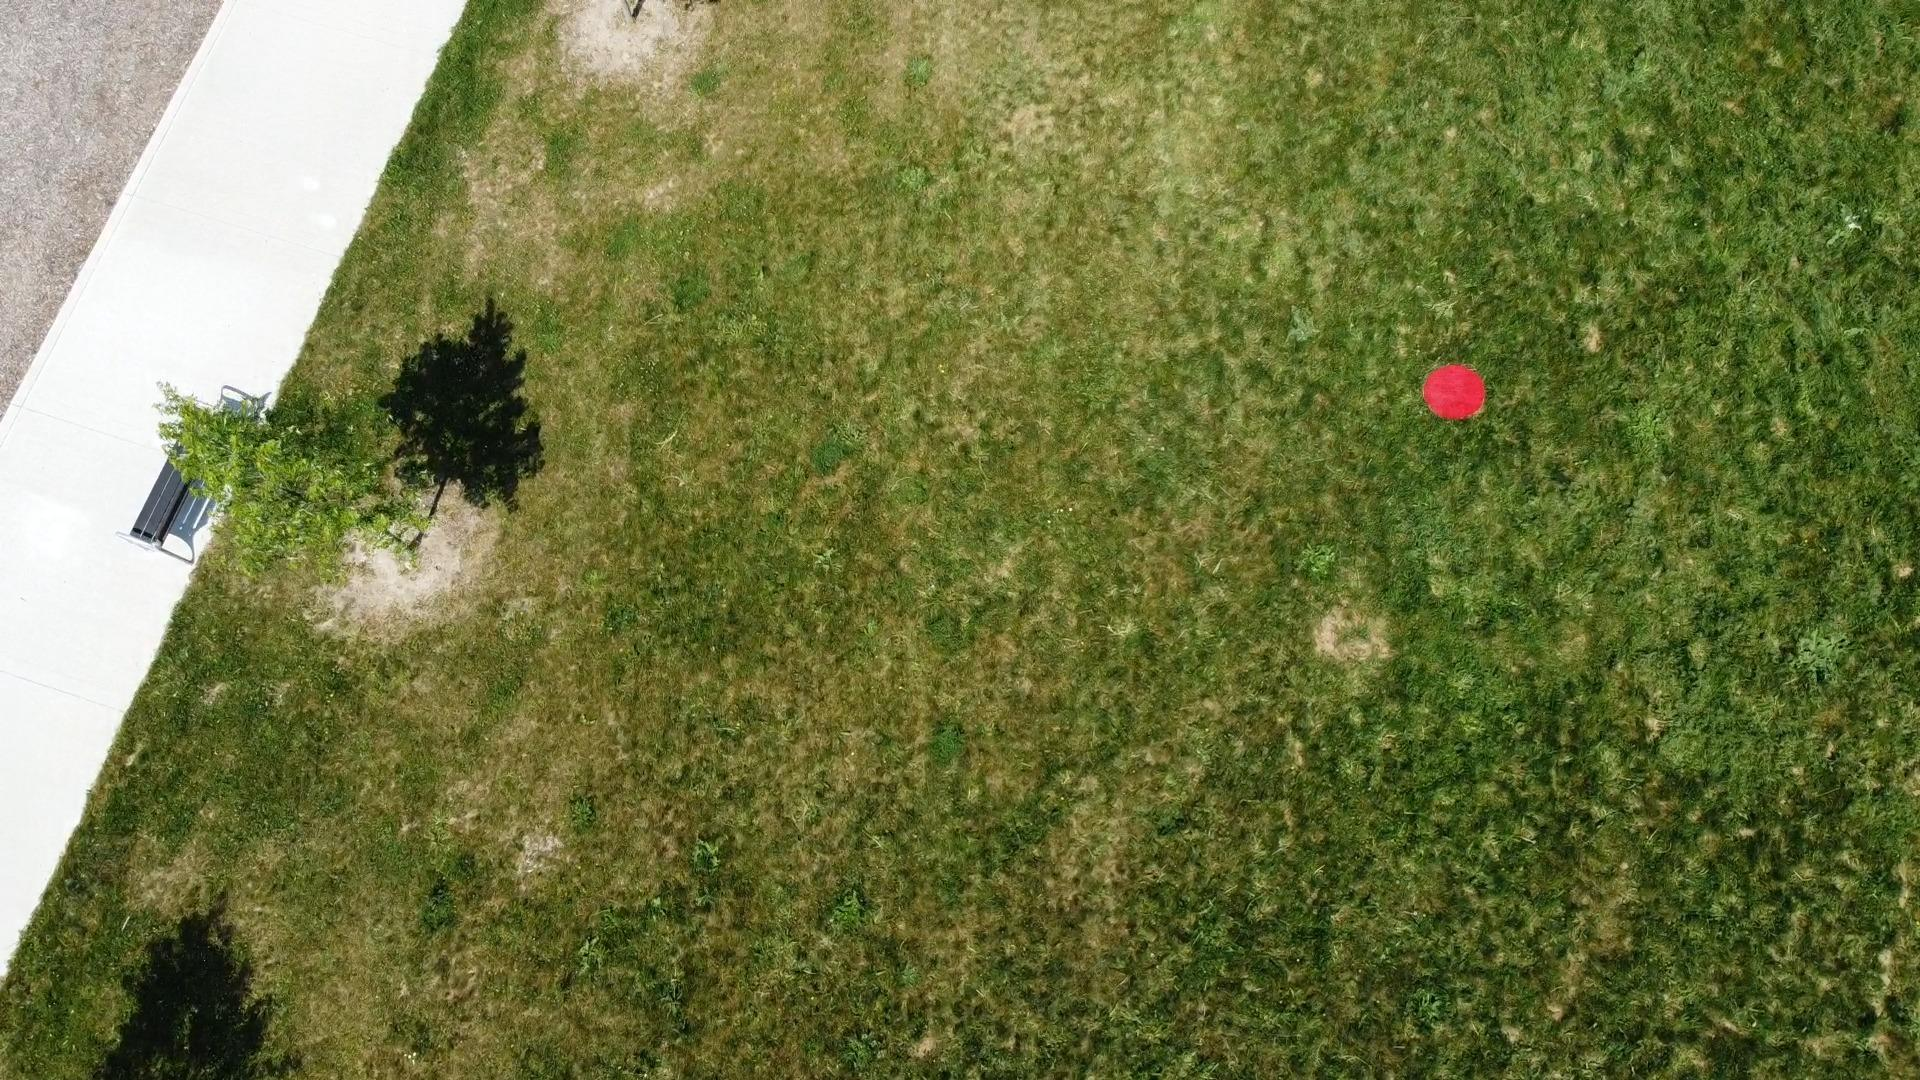Red: (1420, 361, 1490, 423)
